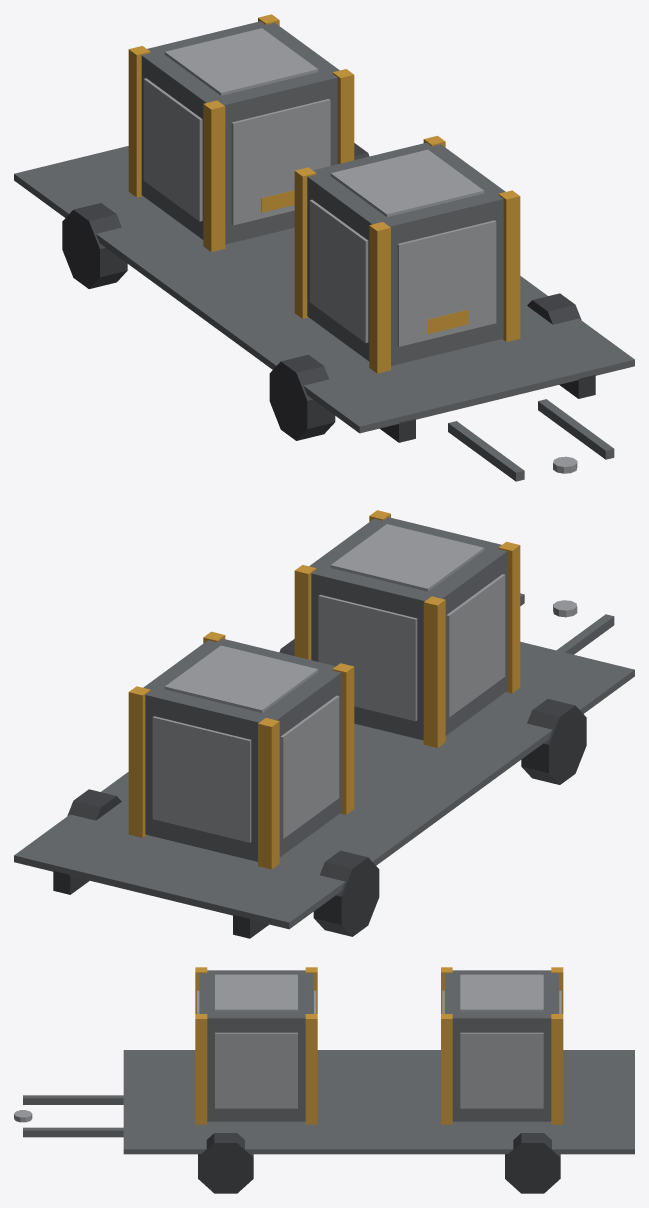
File: cargo_lift_flat.glb
3 views of the same model, one above another, from view 1: azimuth 30°, elevation 25°; view 2: azimuth 150°, elevation 25°; view 3: azimuth 270°, elevation 25° (orthographic). The views are drawn at different scales.
Parts seen in each view (by area): view 1: cargo_lift_base, cargo_lift_cube_a, cargo_lift_cube_b; view 2: cargo_lift_base, cargo_lift_cube_b, cargo_lift_cube_a; view 3: cargo_lift_base, cargo_lift_cube_a, cargo_lift_cube_b.
Part boxes in pixels (x1,y1,x2,y2): cargo_lift_base: (14,143,634,481); cargo_lift_cube_a: (294,135,520,373); cargo_lift_cube_b: (128,14,354,251); cargo_lift_base: (14,593,634,938); cargo_lift_cube_b: (128,631,354,869); cargo_lift_cube_a: (294,510,520,747); cargo_lift_base: (14,1050,634,1193); cargo_lift_cube_a: (195,967,317,1124); cargo_lift_cube_b: (441,967,563,1124).
Size of the model in its own units: 0.653 by 0.4562 by 1.7.
